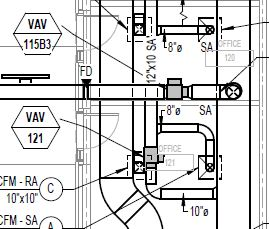VAV: (130, 139, 170, 174), (157, 66, 194, 103)
